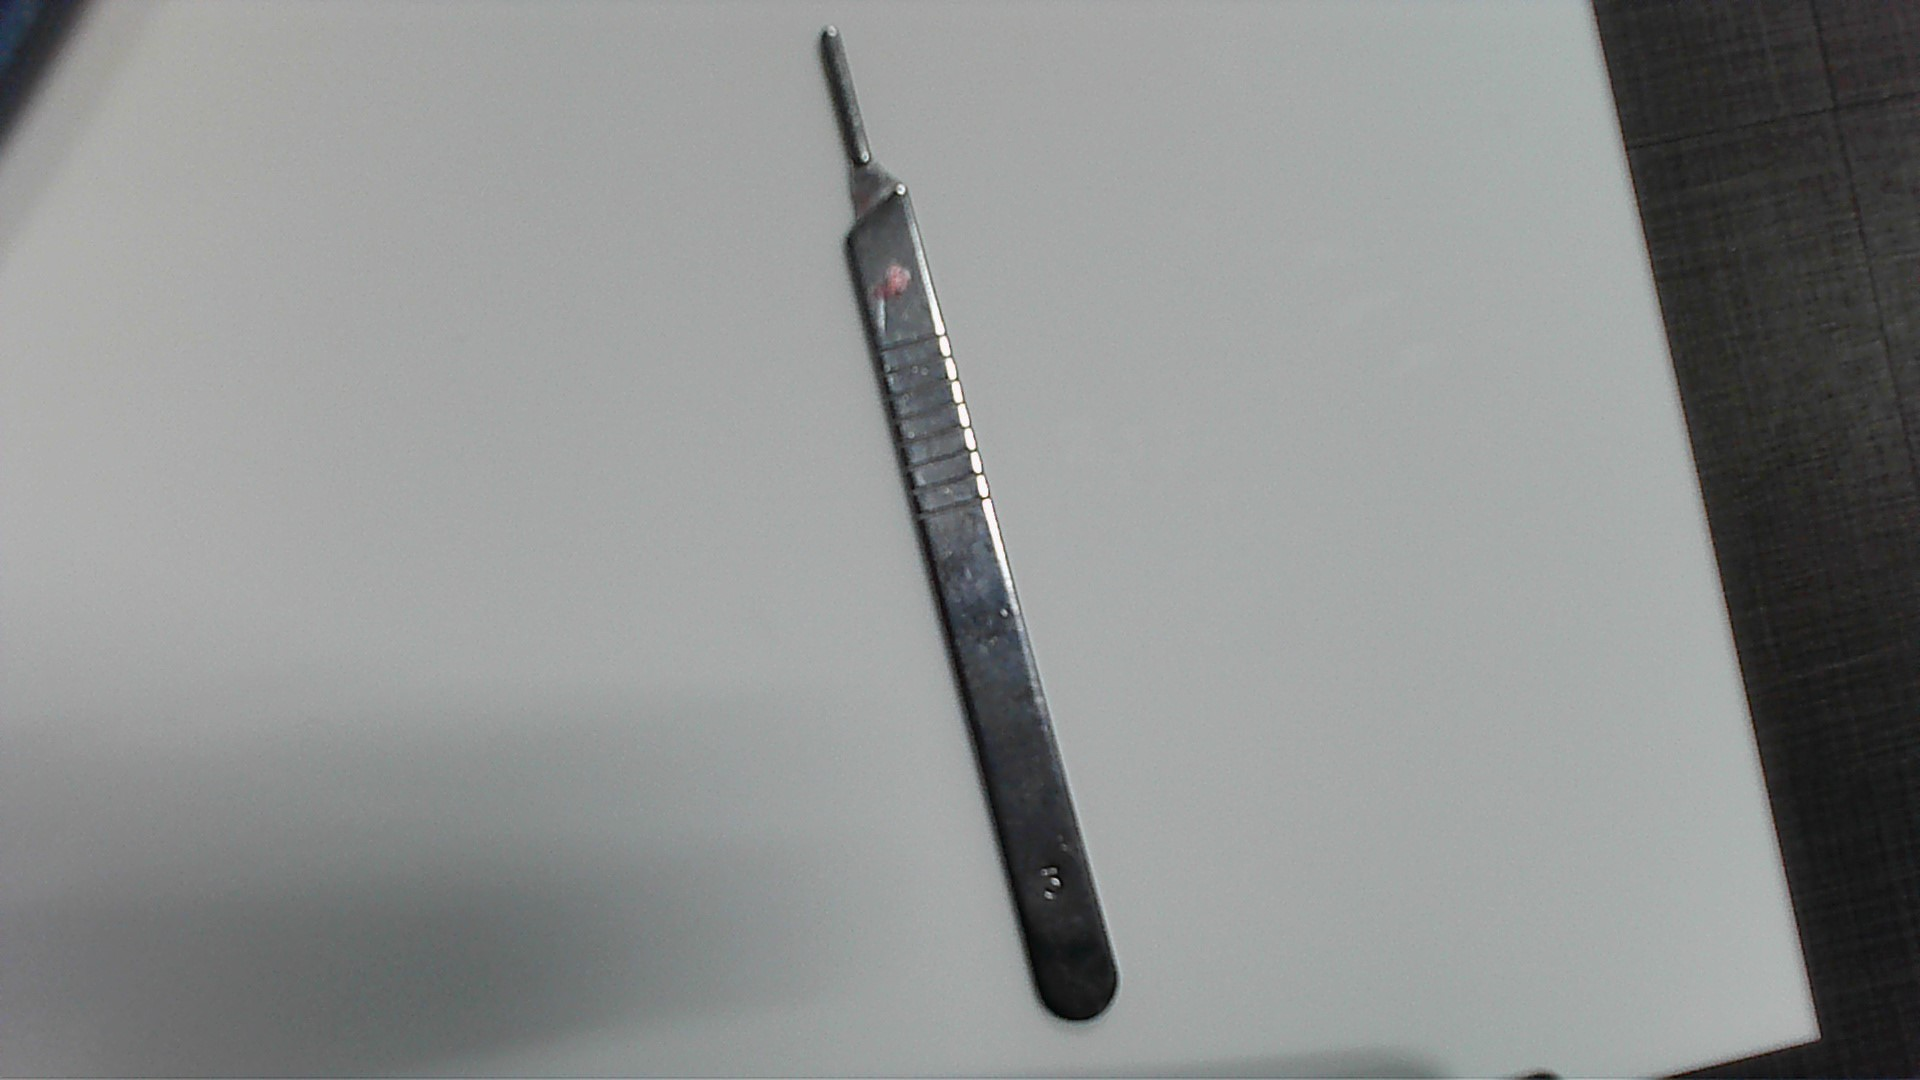Stain: (869, 258, 916, 307)
